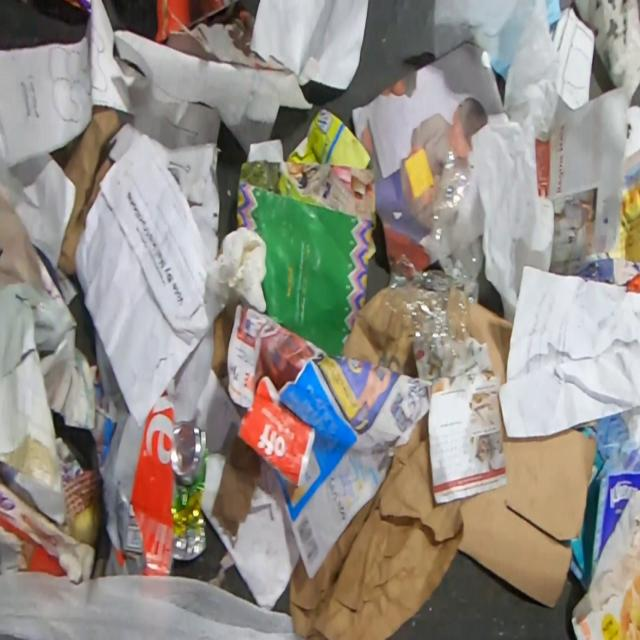cardboard: (457, 426, 598, 608), (210, 374, 316, 550), (562, 404, 640, 593), (56, 106, 122, 274), (0, 479, 95, 586), (340, 285, 419, 378), (472, 303, 513, 383), (211, 310, 234, 378)
metal: (169, 419, 210, 561)
soft_plastic: (381, 146, 484, 361)
